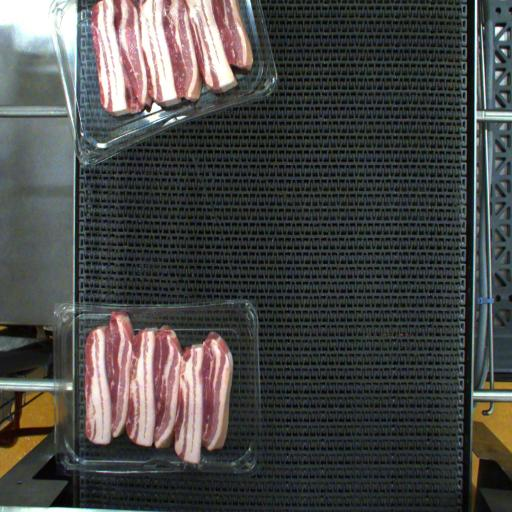packaging-error: (162, 440, 212, 478), (102, 300, 133, 324)
